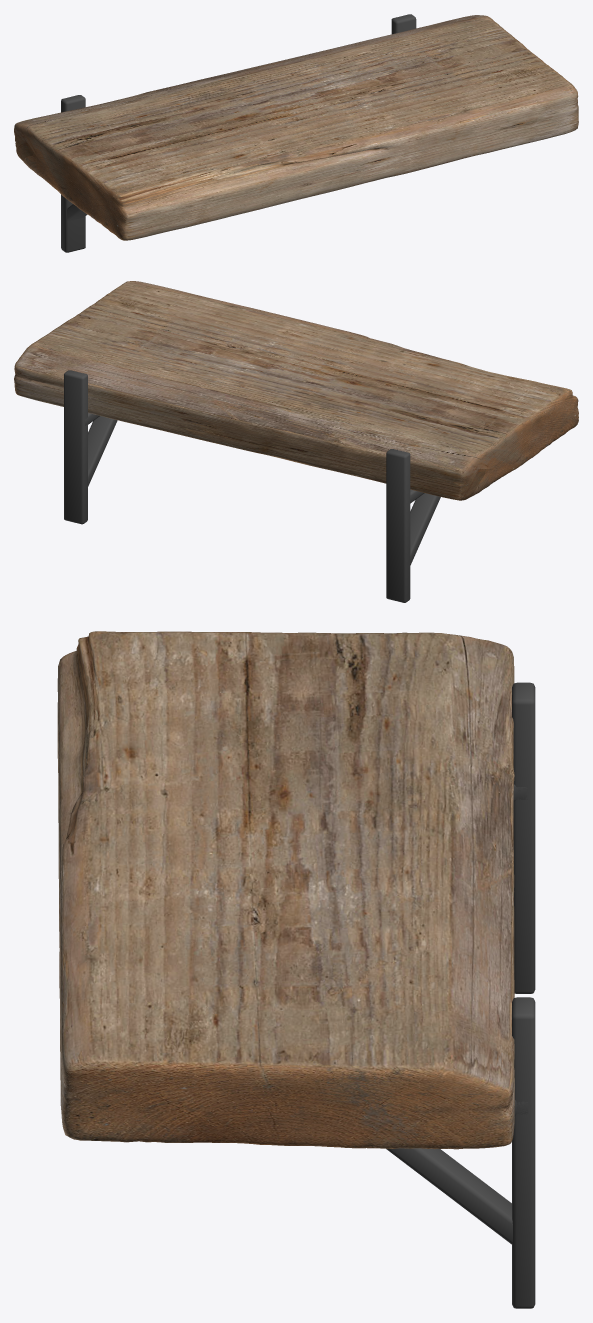
The model's file is metalbracket.glb.
3 views of the same model, one above another, from view 1: azimuth 30°, elevation 25°; view 2: azimuth 150°, elevation 25°; view 3: azimuth 270°, elevation 25° (orthographic). The views are drawn at different scales.
Parts seen in each view (by area): view 1: Shelf_5, Peg_5, Peg_6; view 2: Shelf_5, Peg_5, Peg_6; view 3: Shelf_5, Peg_6, Peg_5.
Part boxes in pixels (x1,y1,x2,y2): Shelf_5: [14, 15, 578, 240]; Peg_5: [61, 95, 87, 252]; Peg_6: [391, 14, 416, 34]; Shelf_5: [14, 281, 578, 500]; Peg_5: [386, 449, 440, 602]; Peg_6: [64, 370, 117, 524]; Shelf_5: [57, 631, 514, 1149]; Peg_6: [386, 997, 535, 1308]; Peg_5: [512, 682, 535, 993].
Bounding box in the file's own units: 1.62 × 0.5004 × 0.7337.
Materials: 2 (1 with a texture image).
